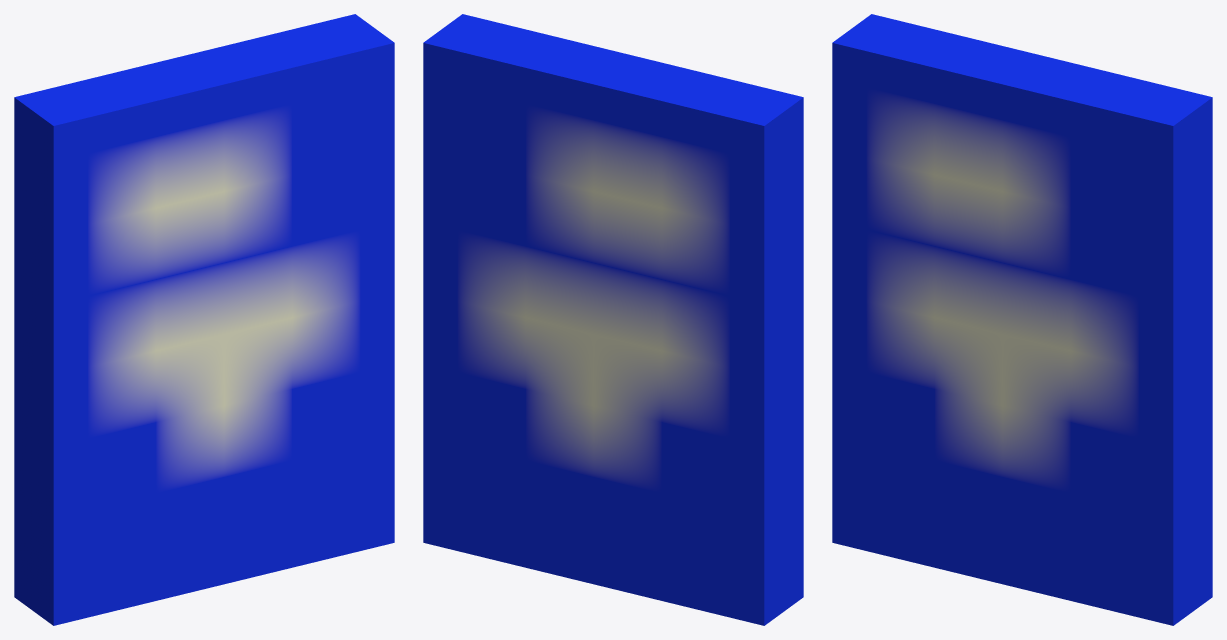
The model's file is Advertising.fbx.
3 renders of one model, left to right at view 1: azimuth 30°, elevation 25°; view 2: azimuth 150°, elevation 25°; view 3: azimuth 330°, elevation 25°, orthographic.
Visible parts, largest first — view 1: Advertising; view 2: Advertising; view 3: Advertising.
Boxes of the visible parts, bbox=[...] form: Advertising: bbox=[14, 14, 394, 625]; Advertising: bbox=[423, 14, 803, 625]; Advertising: bbox=[832, 14, 1212, 625].
Size of the model in its own units: 50 by 70 by 10.
